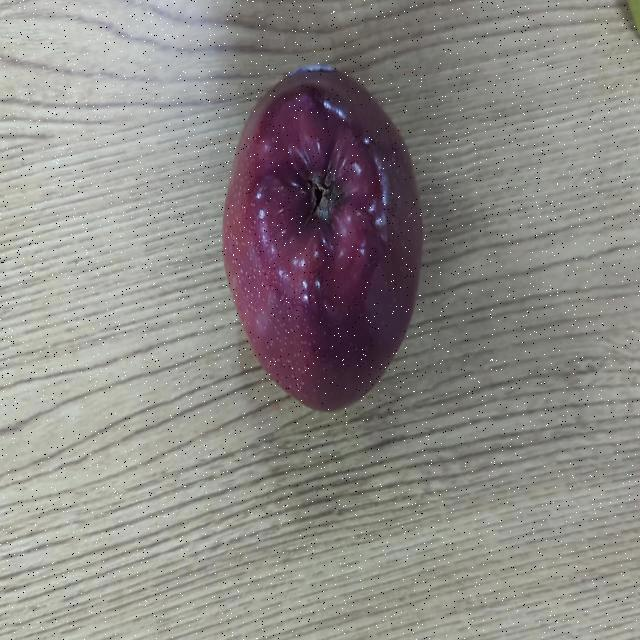Apel Merah: (217, 53, 426, 414)
